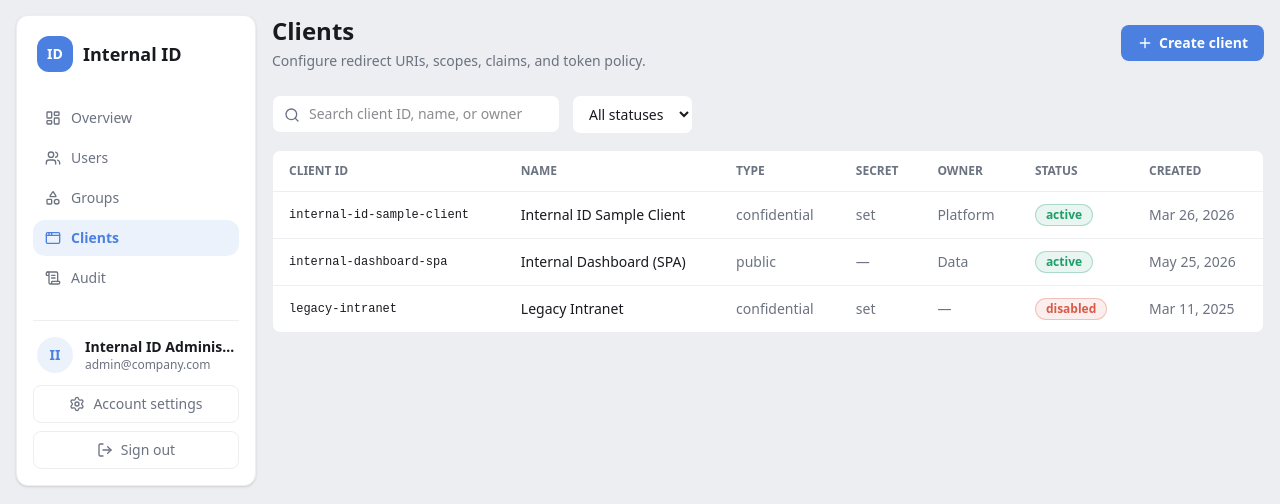
Test case: status filter narrows to disabled clients
Expected: the text "Legacy Intranet" is shown, [505,286,720,332]
Select "disabled" in the dropdown named "Filter by status" at (632, 114), box [572,95,693,134]
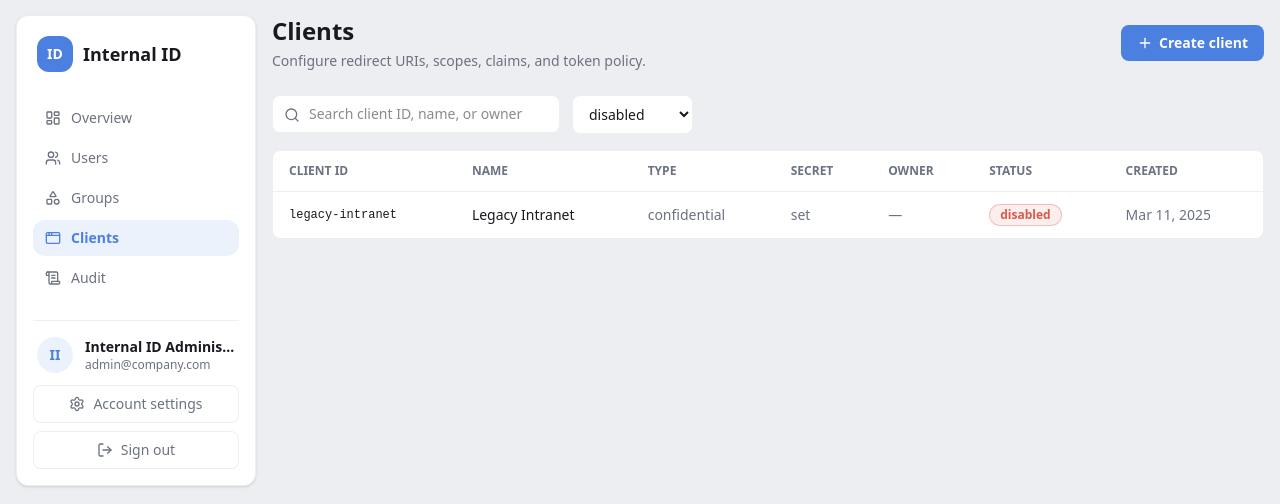
Expected: the text "Legacy Intranet" is shown, [456,192,632,238]
Expected: the text "Internal ID Sample Client" is gone
